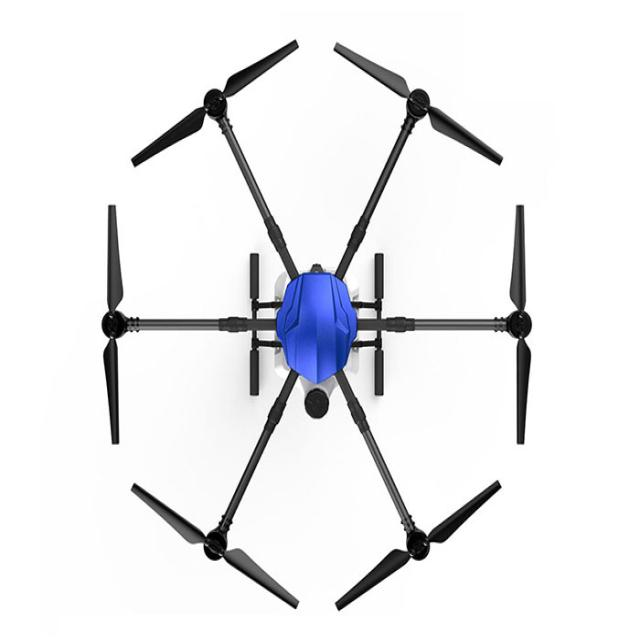drone: (49, 0, 569, 617)
